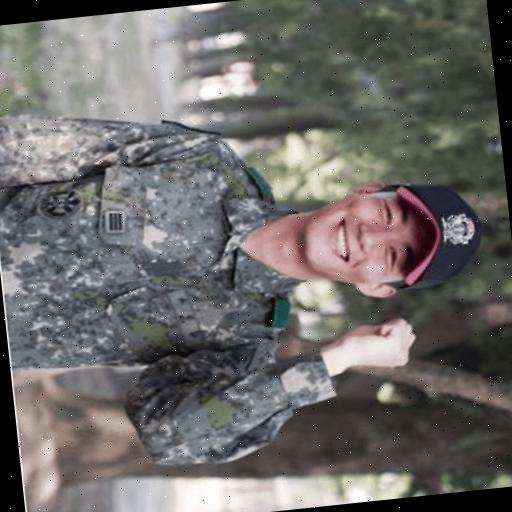korea army: (0, 65, 503, 486)
